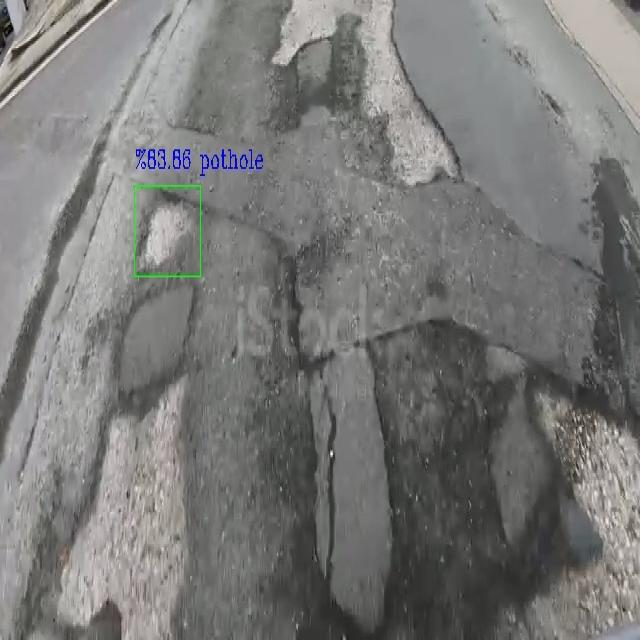pothole: (136, 192, 198, 271)
